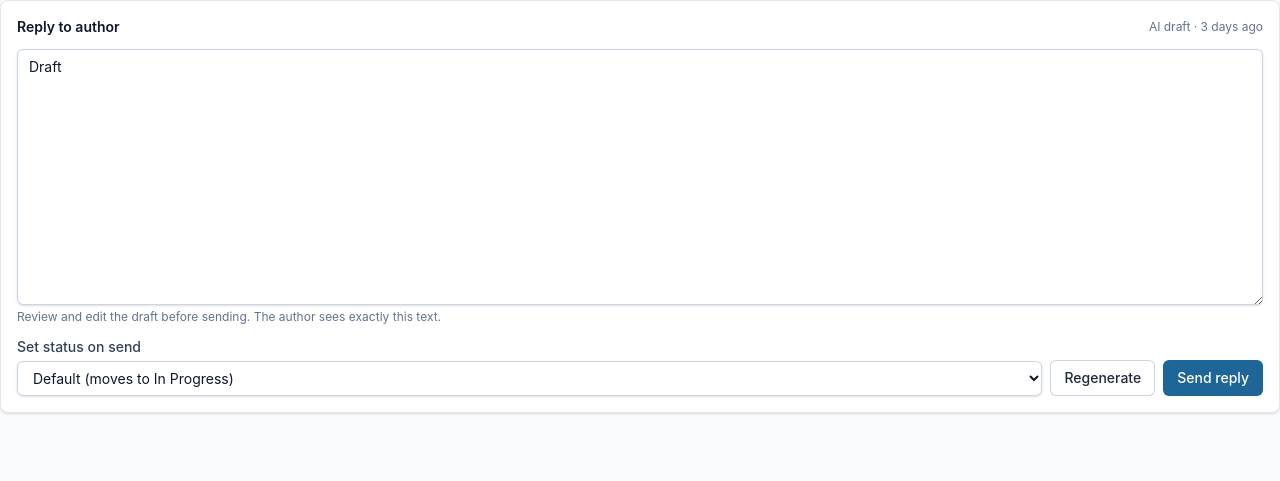
Test: DraftReplyPanel › shows the friendly message when Regenerate is rate limited
expect the text box named "reply" holds "Draft": met, box top-left (17, 49), bottom-right (1263, 305)
What coordinates should you click on to do the following:
click the button "Regenerate"
I would click on:
 (1103, 378)
Its box is top-left (1050, 360), bottom-right (1155, 396).
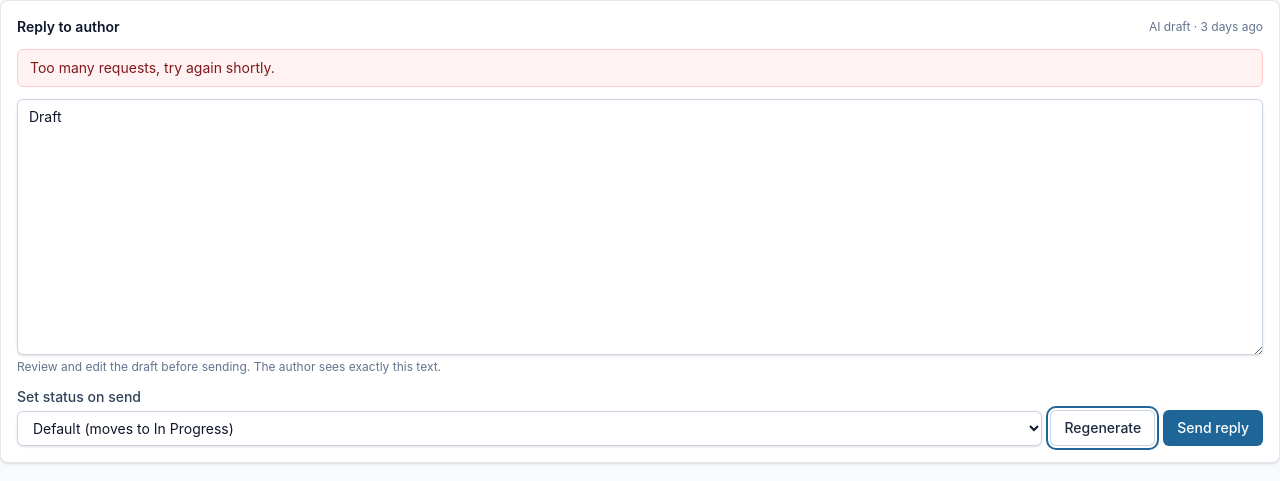
expect the text box named "reply" holds "Draft": met, box top-left (17, 99), bottom-right (1263, 355)
expect the text "Too many requests, try again shortly." is shown: met, box top-left (30, 59), bottom-right (275, 76)
